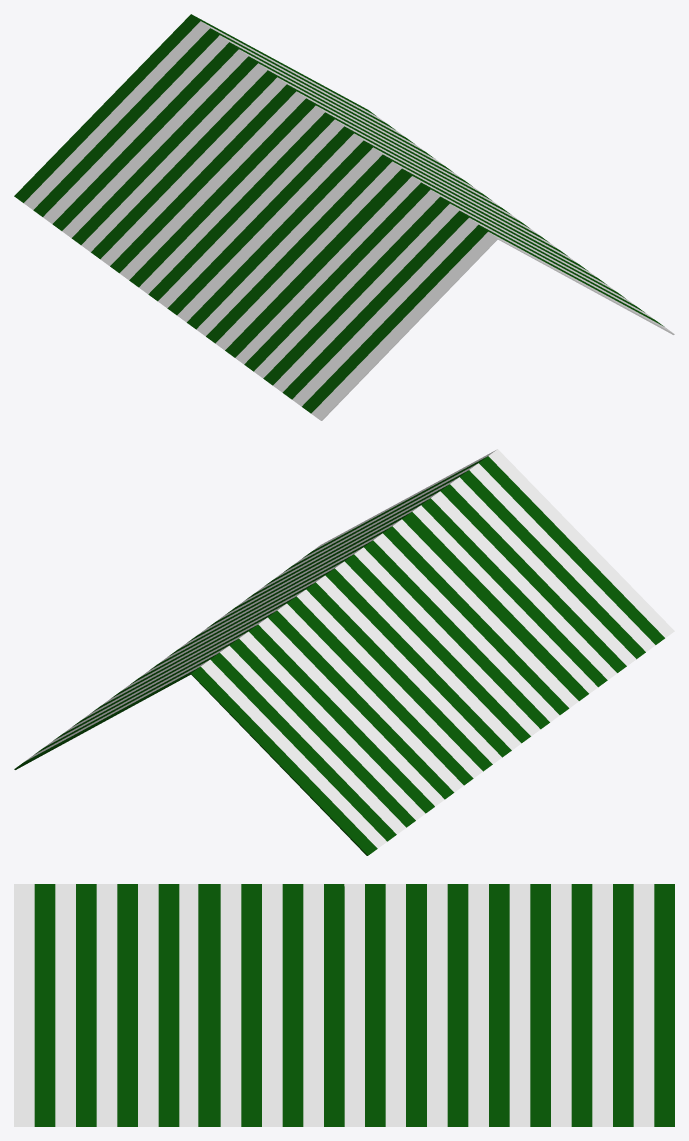
The model's file is techo.fbx.
The picture shows the model from 3 angles, top to bottom: view 1: azimuth 30°, elevation 25°; view 2: azimuth 150°, elevation 25°; view 3: azimuth 270°, elevation 25°; orthographic projection. The views are drawn at different scales.
Visible parts, largest first — view 1: Plane; view 2: Plane; view 3: Plane.
Part boxes in pixels (bbox=[...]): Plane: bbox=[14, 14, 674, 420]; Plane: bbox=[14, 449, 674, 855]; Plane: bbox=[14, 884, 674, 1126].
Bounding box in the file's own units: 400 × 600 × 151.
